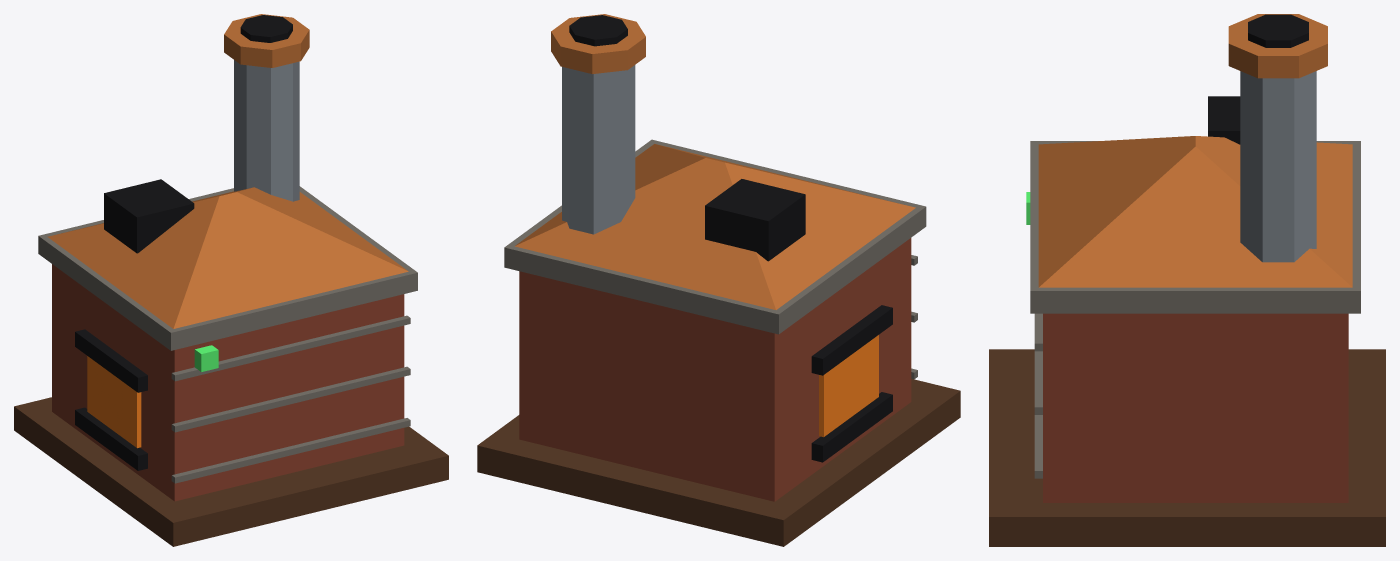
Rendered from smelter.obj.
The picture shows the model from 3 angles, left to right: view 1: azimuth 30°, elevation 25°; view 2: azimuth 150°, elevation 25°; view 3: azimuth 270°, elevation 25°; orthographic projection. The views are drawn at different scales.
Visible parts, largest first — view 1: Body, Lamp; view 2: Body; view 3: Body.
Part boxes in pixels (<box>): Body: <box>14,14,448,546</box>; Lamp: <box>194,345,218,371</box>; Body: <box>477,14,960,546</box>; Body: <box>989,14,1385,546</box>.
Size of the model in its own units: 0.96 by 1.28 by 0.96.
